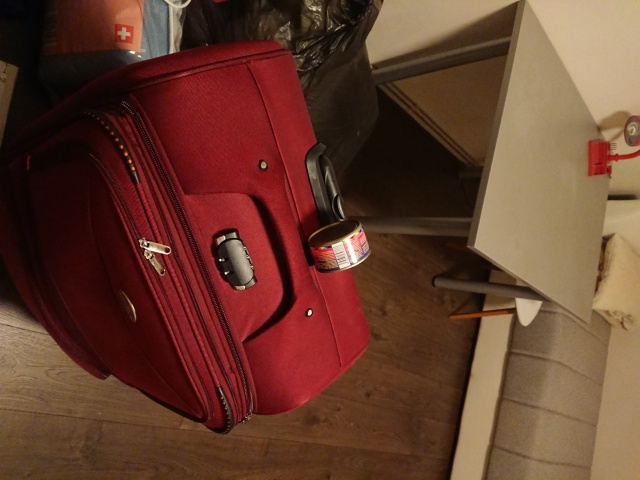Giana Tuna Salad Mexico 185g: (308, 216, 373, 276)
